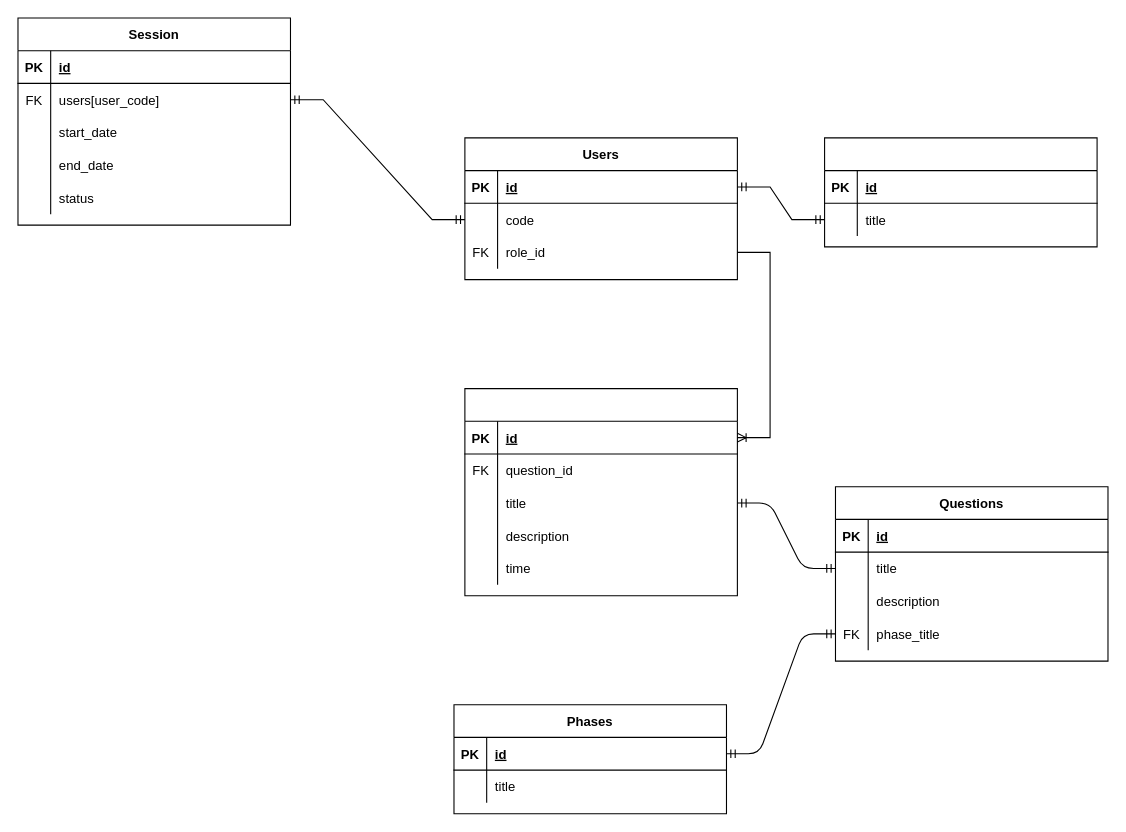
The diagram is 1126 pixels wide and 832 high, and some of its shapes have lost their labels. The box of each missing label's shape, as (x1, y1, x2, y2) in pixels:
Answers: (464, 387, 737, 596)
Roles: (823, 137, 1097, 247)
